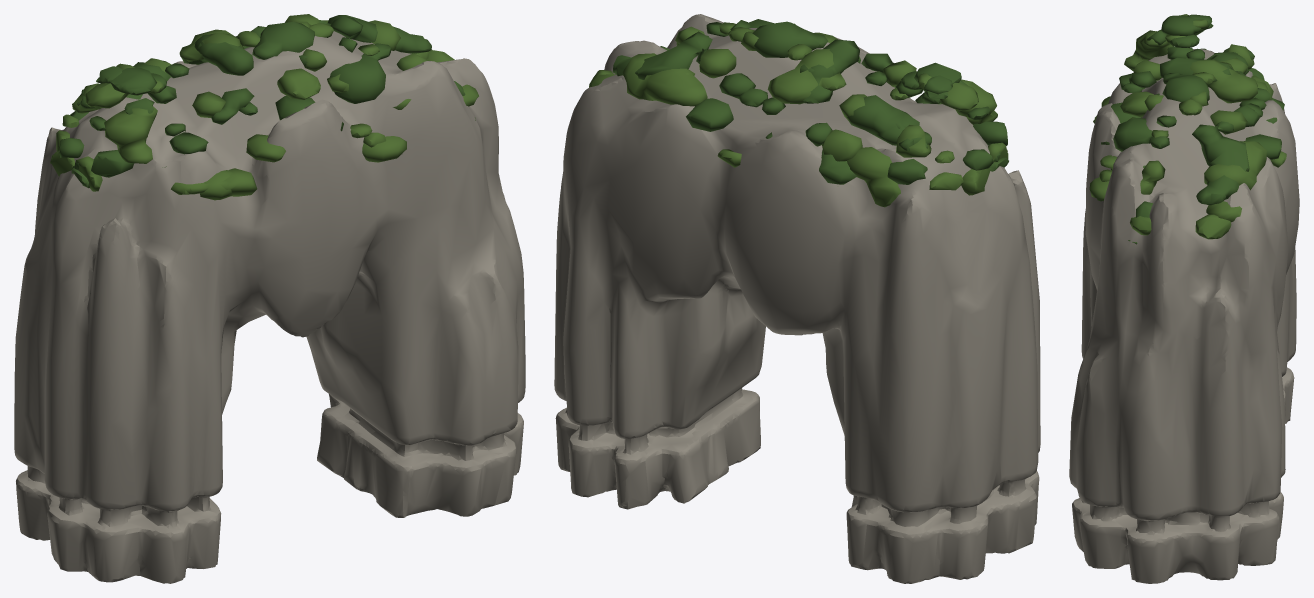
The model's file is karst-c.glb.
The picture shows the model from 3 angles, left to right: view 1: azimuth 30°, elevation 25°; view 2: azimuth 150°, elevation 25°; view 3: azimuth 270°, elevation 25°; orthographic projection. The views are drawn at different scales.
Visible parts, largest first — view 1: rock_0, bush2_4, bush_1, bush_3, bush2_2; view 2: rock_0, bush_1, bush2_2, bush_3, bush2_4; view 3: rock_0, bush_1, bush2_4, bush2_2, bush_3.
Boxes of the visible parts, bbox=[...] form: rock_0: bbox=[14, 31, 525, 583]; bush2_4: bbox=[50, 20, 454, 196]; bush_1: bbox=[59, 21, 475, 170]; bush_3: bbox=[71, 15, 377, 188]; bush2_2: bbox=[56, 14, 478, 200]; rock_0: bbox=[554, 14, 1040, 583]; bush_1: bbox=[612, 19, 1000, 184]; bush2_2: bbox=[590, 23, 1008, 207]; bush_3: bbox=[635, 20, 1008, 184]; bush2_4: bbox=[589, 22, 997, 195]; rock_0: bbox=[1069, 49, 1299, 583]; bush_1: bbox=[1113, 15, 1277, 244]; bush2_4: bbox=[1089, 19, 1286, 239]; bush2_2: bbox=[1094, 14, 1273, 235]; bush_3: bbox=[1097, 14, 1284, 201].
Size of the model in its own units: 42.48 by 41.94 by 21.01.
